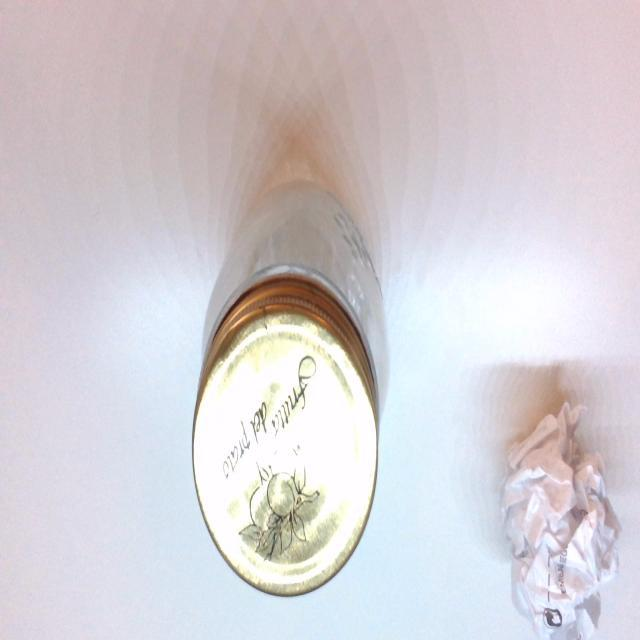Paper: (503, 404, 623, 640)
